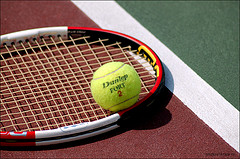tennis ball: (89, 60, 142, 111)
